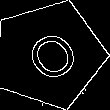O_SE: (15, 21, 84, 88)
